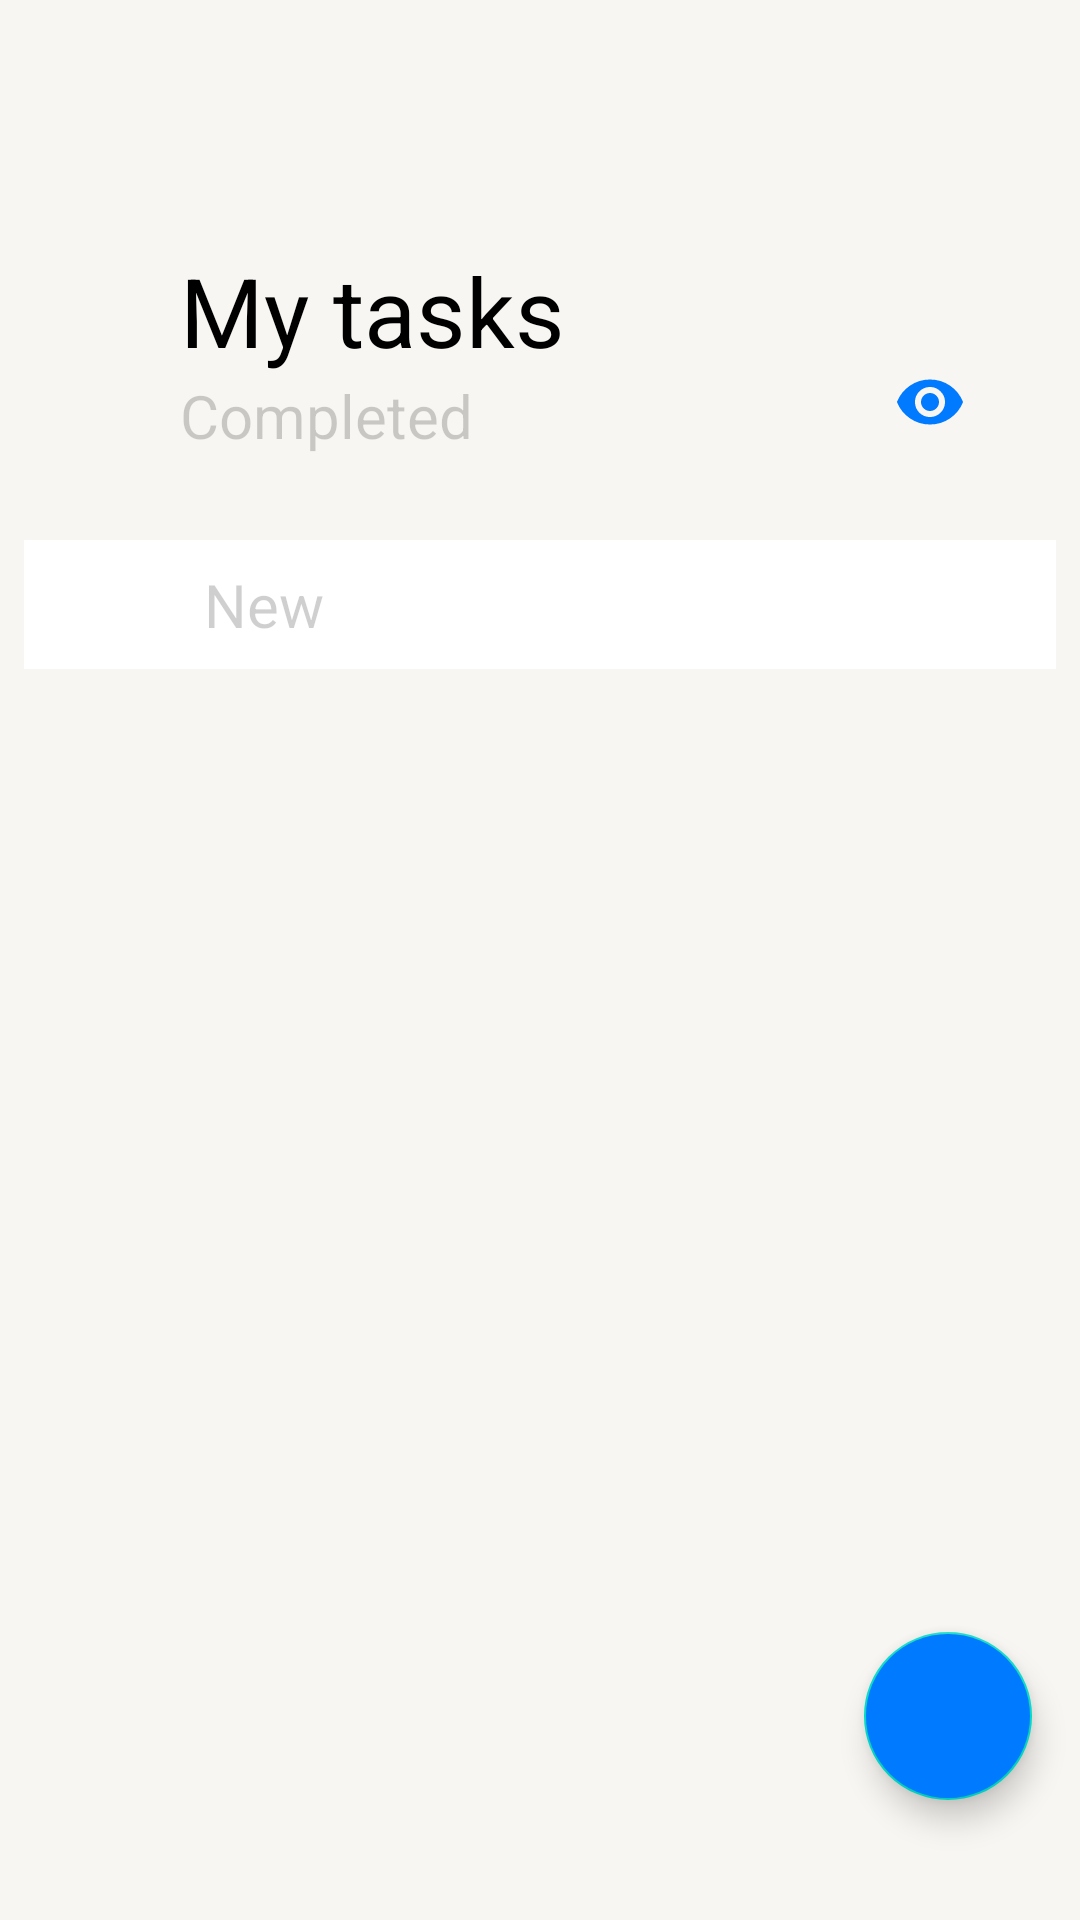

Icon bounding boxes for this 1080w x 1920h phone screenshot, format (x1, y1, x2, y2):
Show/Hide: (897, 379, 963, 425)
